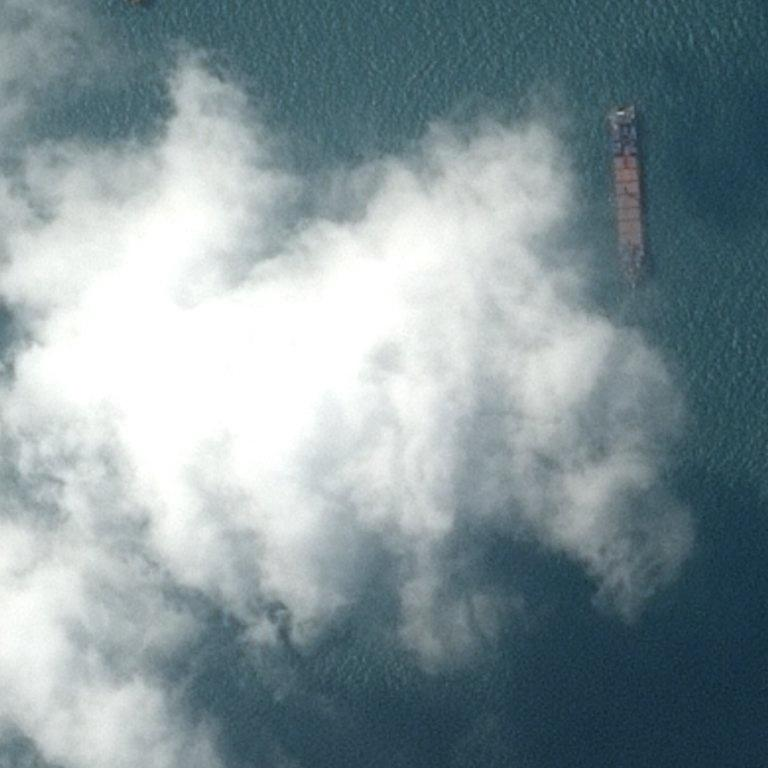ship: (591, 97, 645, 294), (627, 276, 639, 290), (608, 102, 622, 114), (602, 103, 612, 116)
